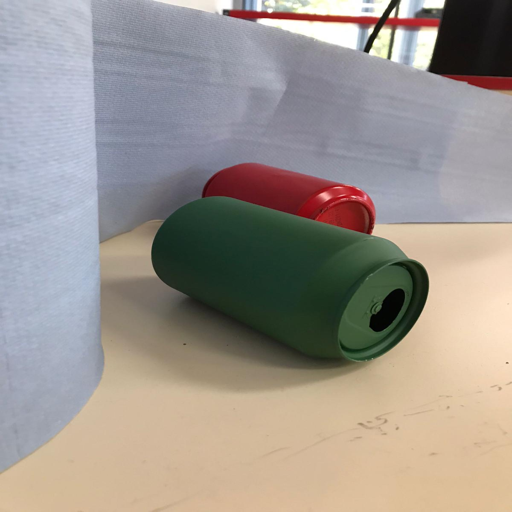Green_Can: (149, 194, 431, 365)
Red_Can: (198, 159, 373, 240)
